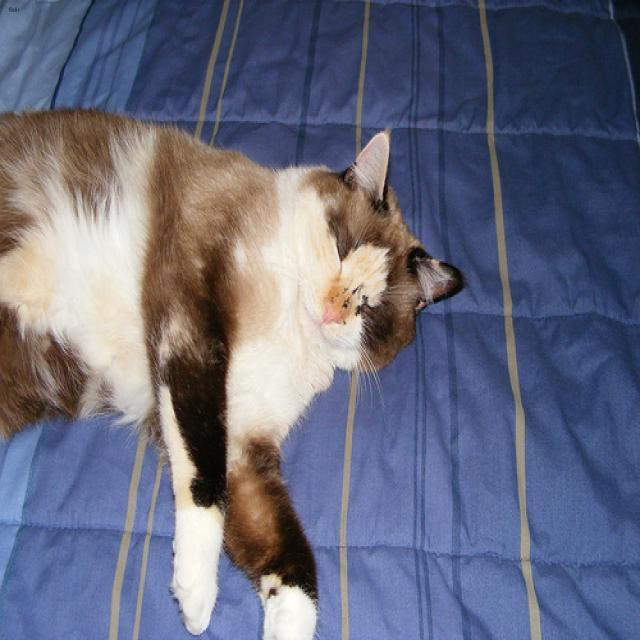Ragdoll: (294, 116, 473, 388)
